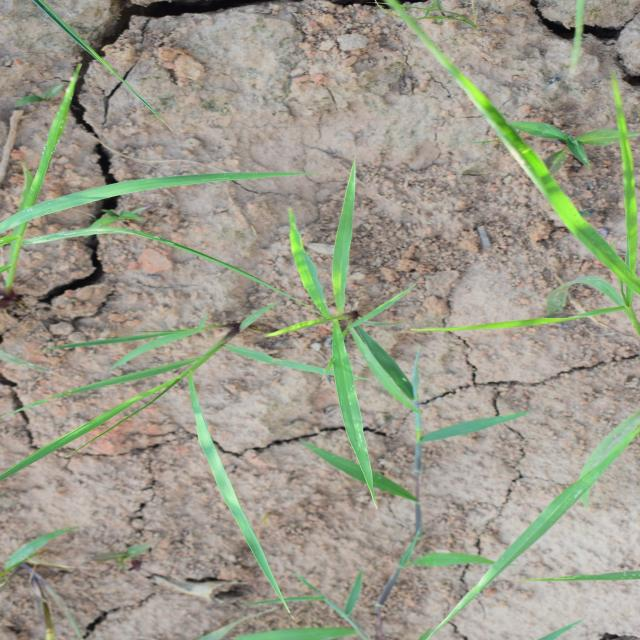green_foxtail: (35, 38, 346, 274), (178, 280, 456, 414)
